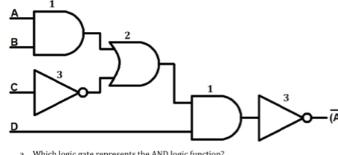and: (31, 5, 85, 60), (188, 92, 244, 142)
not: (30, 67, 89, 116), (258, 93, 313, 144)
or: (107, 39, 168, 89)
